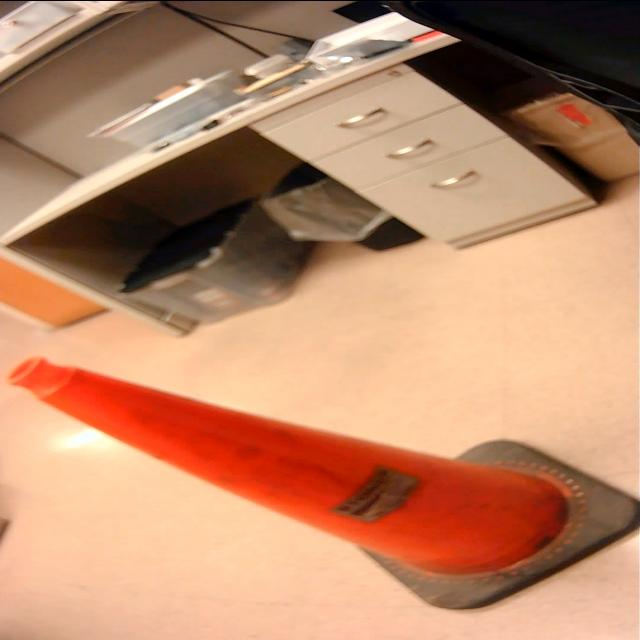traffic cone: (1, 352, 640, 616)
